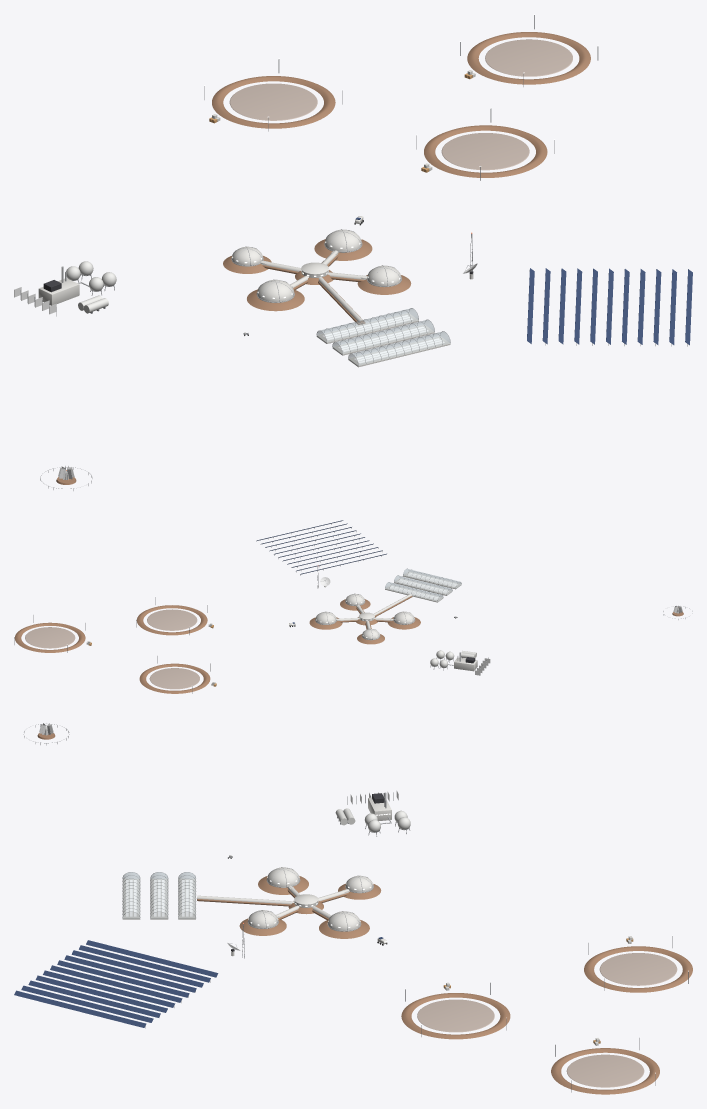
The model's file is marsbase.glb.
3 views of the same model, one above another, from view 1: azimuth 30°, elevation 25°; view 2: azimuth 150°, elevation 25°; view 3: azimuth 270°, elevation 25° (orthographic). The views are drawn at different scales.
Visible parts, largest first — view 1: marsbase; view 2: marsbase; view 3: marsbase.
Boxes of the visible parts, bbox=[...] form: marsbase: bbox=[14, 14, 692, 490]; marsbase: bbox=[14, 520, 692, 693]; marsbase: bbox=[14, 722, 692, 1094].
Size of the model in its own units: 687 by 31.4 by 536.
